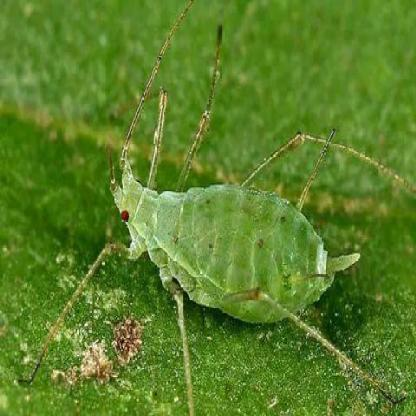aphid: (69, 14, 399, 391)
